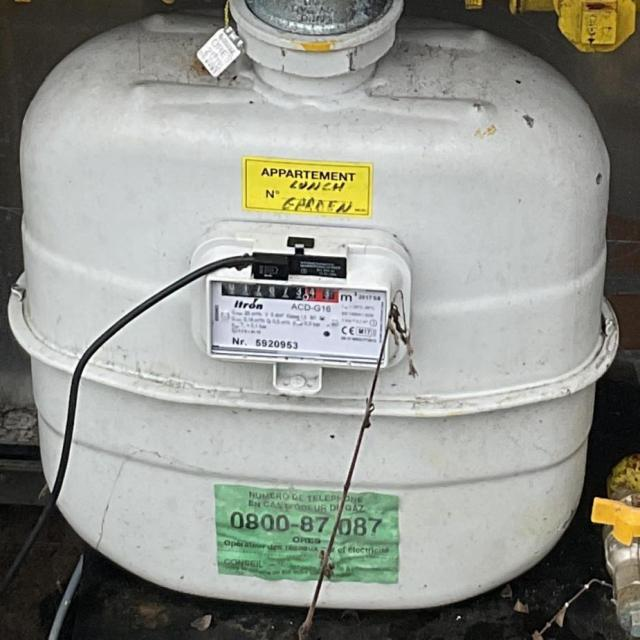gaz_meter: (205, 271, 391, 364)
indication: (218, 278, 339, 302)
